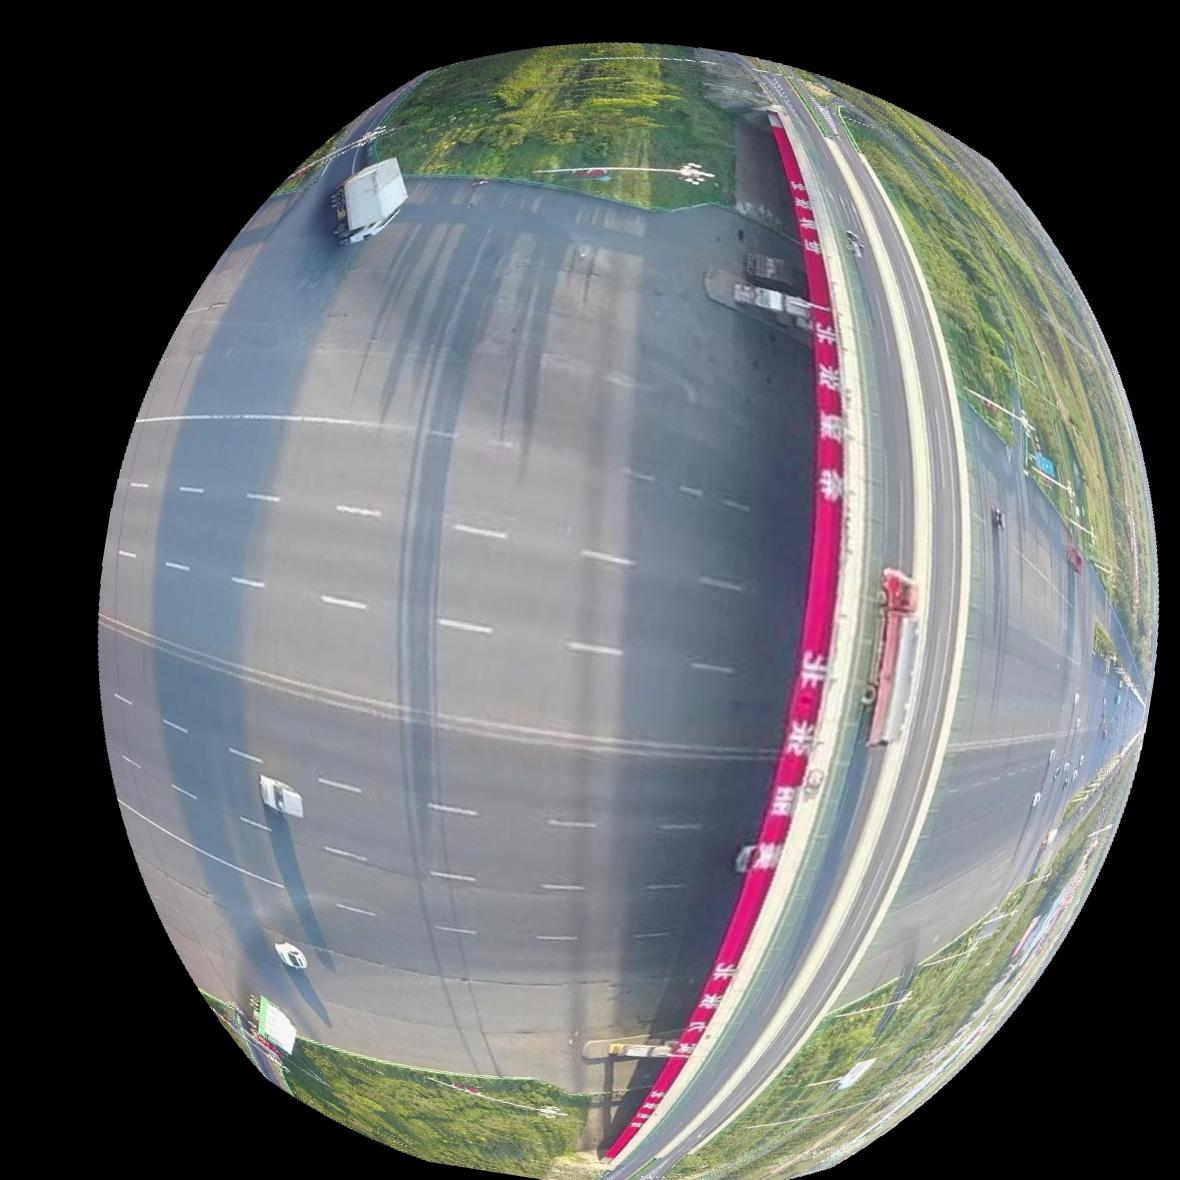cars: (861, 567, 921, 748), (328, 155, 406, 242), (249, 997, 295, 1057), (270, 935, 313, 996), (257, 775, 300, 817)
trees: (812, 78, 1157, 681), (377, 41, 730, 180), (281, 1040, 588, 1179)
